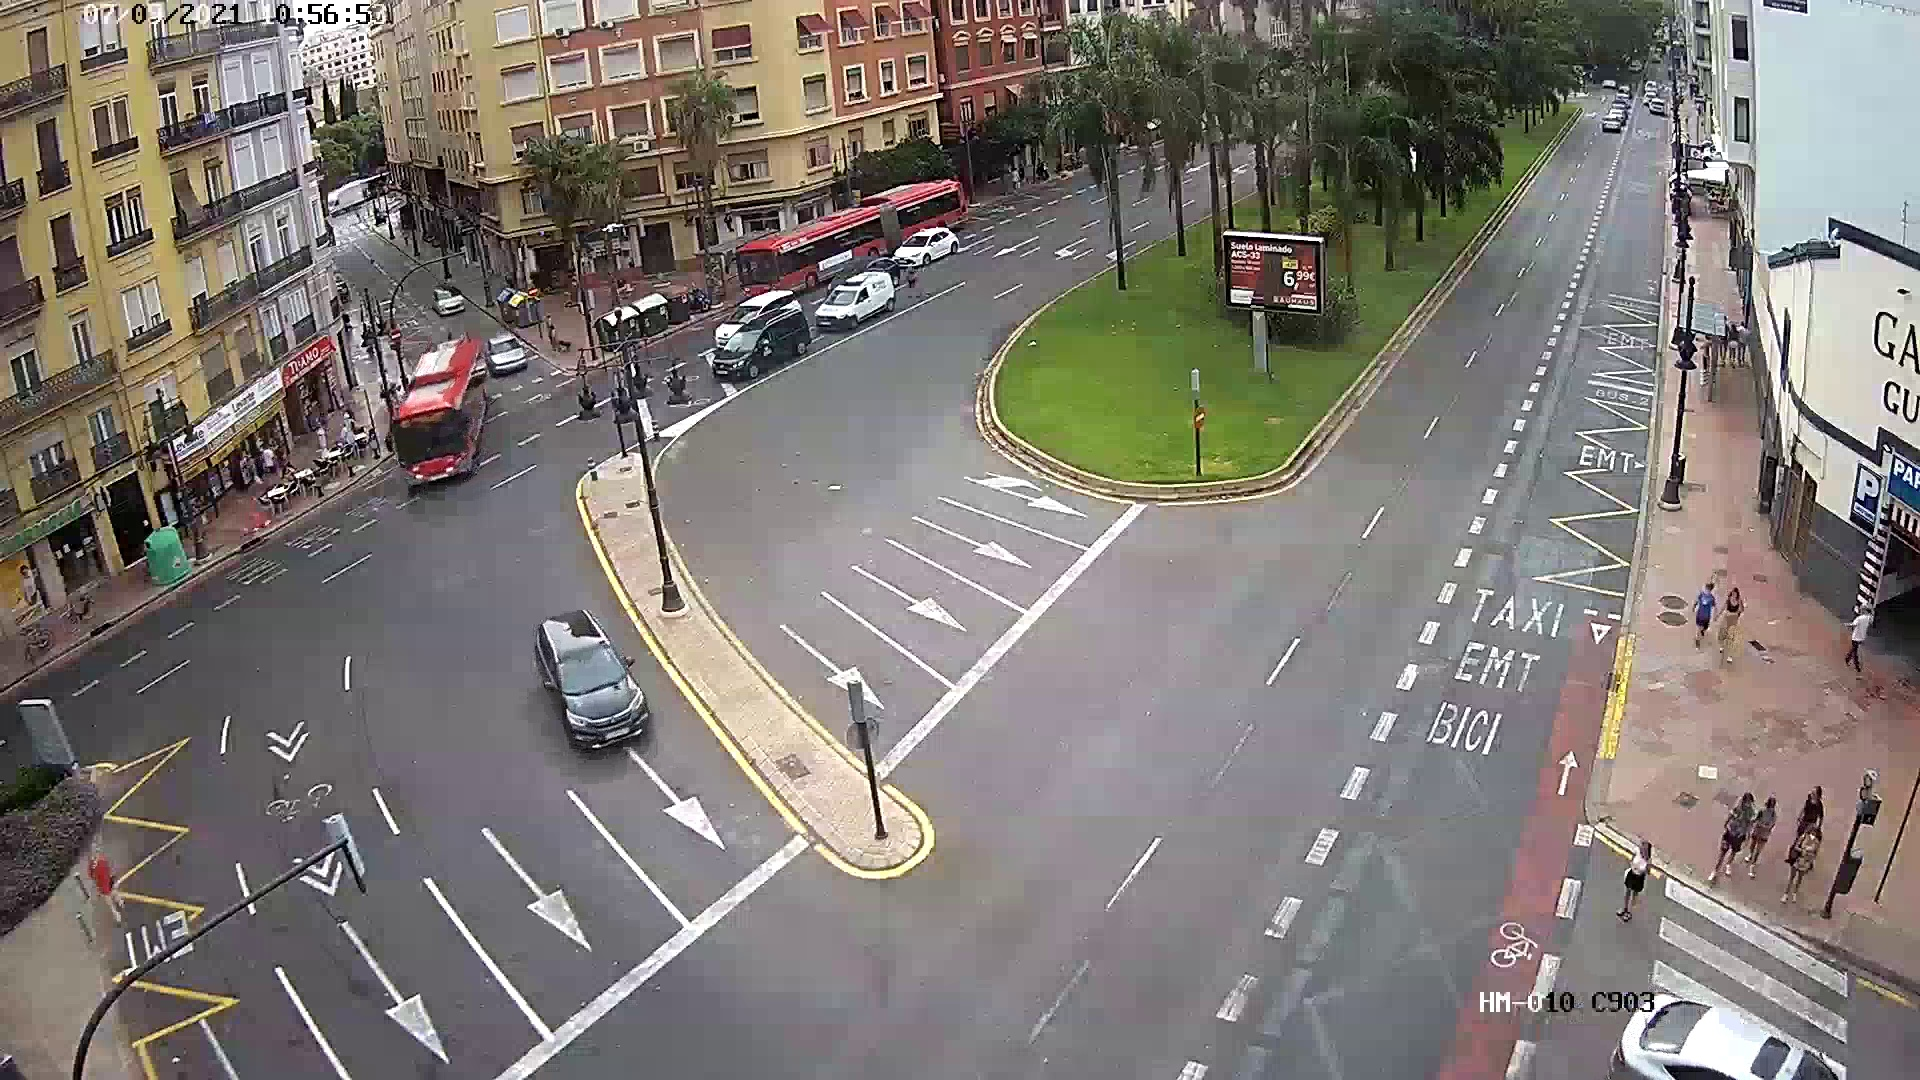Cars: (1589, 989, 1842, 1080), (514, 612, 666, 761), (816, 285, 903, 322), (479, 327, 526, 389), (891, 235, 971, 272), (429, 294, 465, 320)
